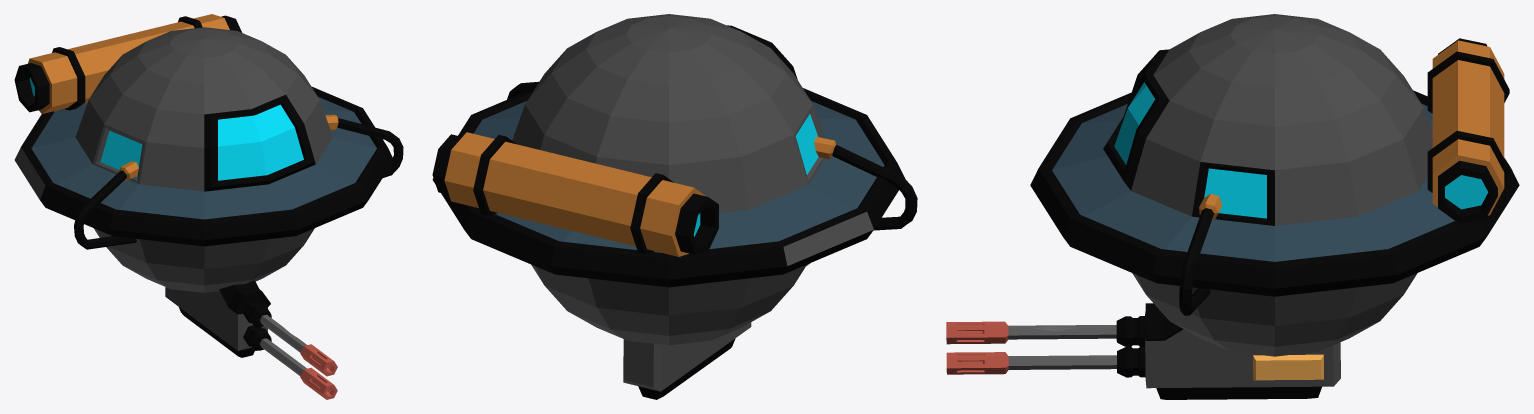
Rendered from enemy02-01.fbx.
3 views of the same model, side by side, from view 1: azimuth 30°, elevation 25°; view 2: azimuth 150°, elevation 25°; view 3: azimuth 270°, elevation 25° (orthographic). The views are drawn at different scales.
Parts seen in each view (by area): view 1: enemy02-01; view 2: enemy02-01; view 3: enemy02-01.
Boxes of the visible parts, box(x1,y1,x2,y2) form: enemy02-01: box(14, 14, 403, 399); enemy02-01: box(432, 14, 917, 399); enemy02-01: box(946, 14, 1519, 399).
Bounding box in the file's own units: 562 × 465 × 658.
